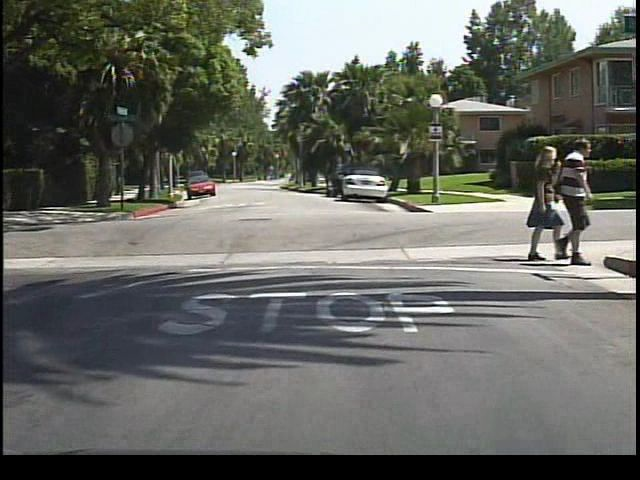person: (552, 134, 597, 269), (519, 145, 559, 261)
